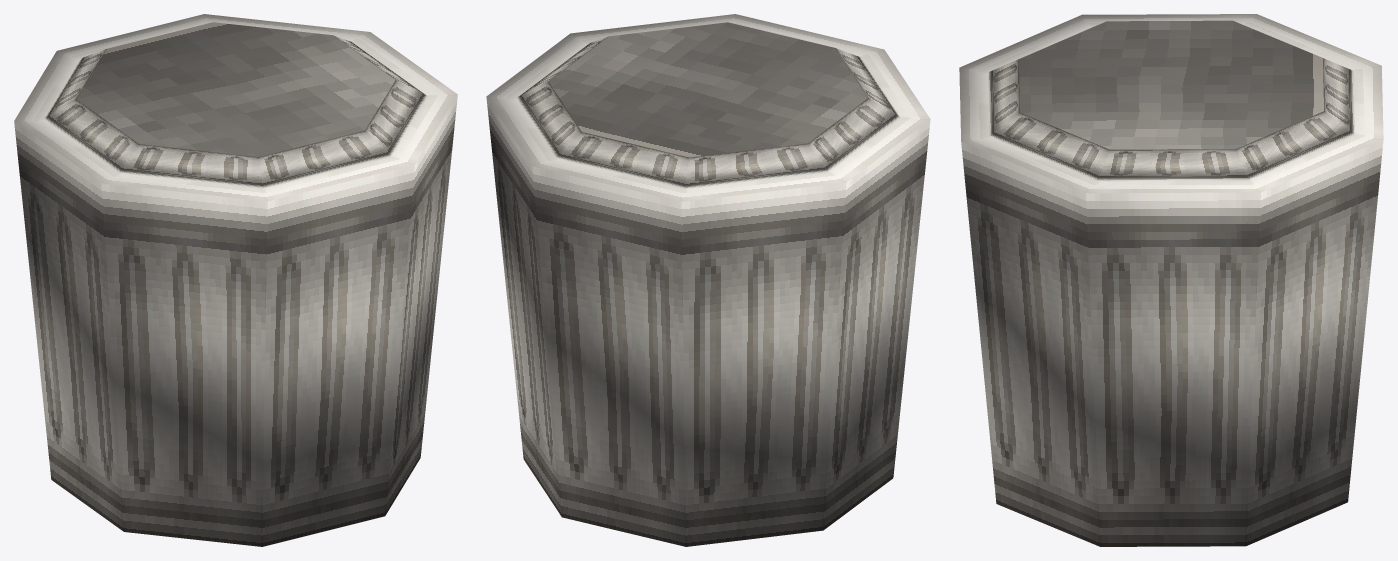
File: a_SWAdrum01.glb
The picture shows the model from 3 angles, left to right: view 1: azimuth 30°, elevation 25°; view 2: azimuth 150°, elevation 25°; view 3: azimuth 270°, elevation 25°; orthographic projection. The views are drawn at different scales.
Visible parts, largest first — view 1: a_SWAdrum01; view 2: a_SWAdrum01; view 3: a_SWAdrum01.
Boxes of the visible parts, x1,y1,x2,y2 form: a_SWAdrum01: [14, 14, 457, 546]; a_SWAdrum01: [486, 14, 930, 546]; a_SWAdrum01: [959, 14, 1383, 546].
Bounding box in the file's own units: 0.9934 × 1 × 0.9932.
1 material, 1 textured.
